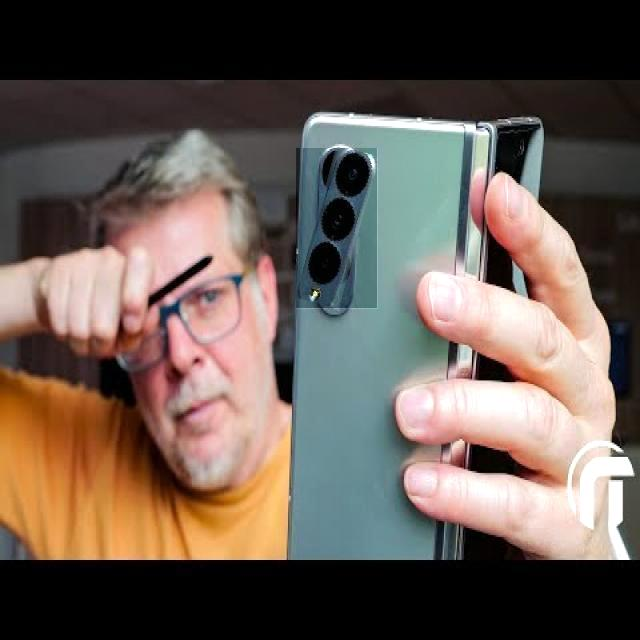lens_back: (304, 240, 351, 288), (324, 149, 374, 194), (318, 196, 364, 240)
phone: (288, 106, 544, 560)
